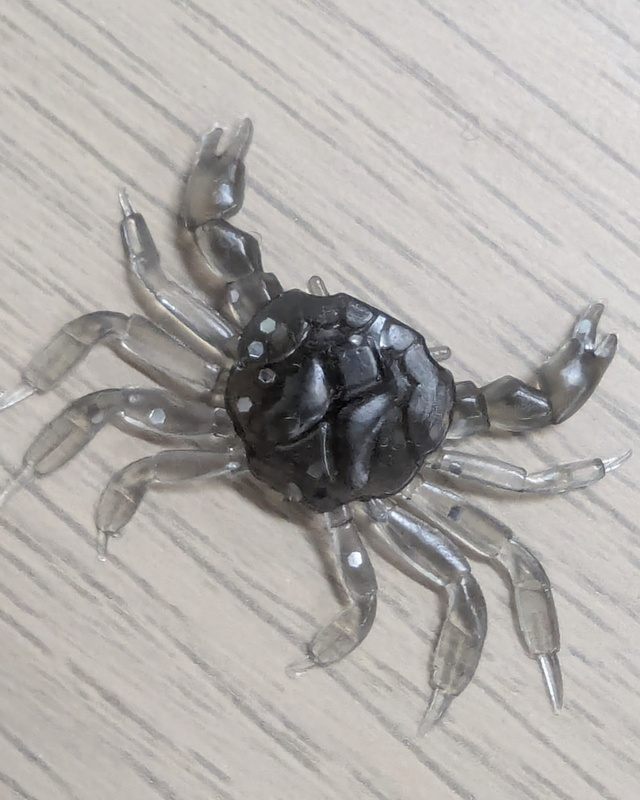crab1: (1, 113, 640, 739)
